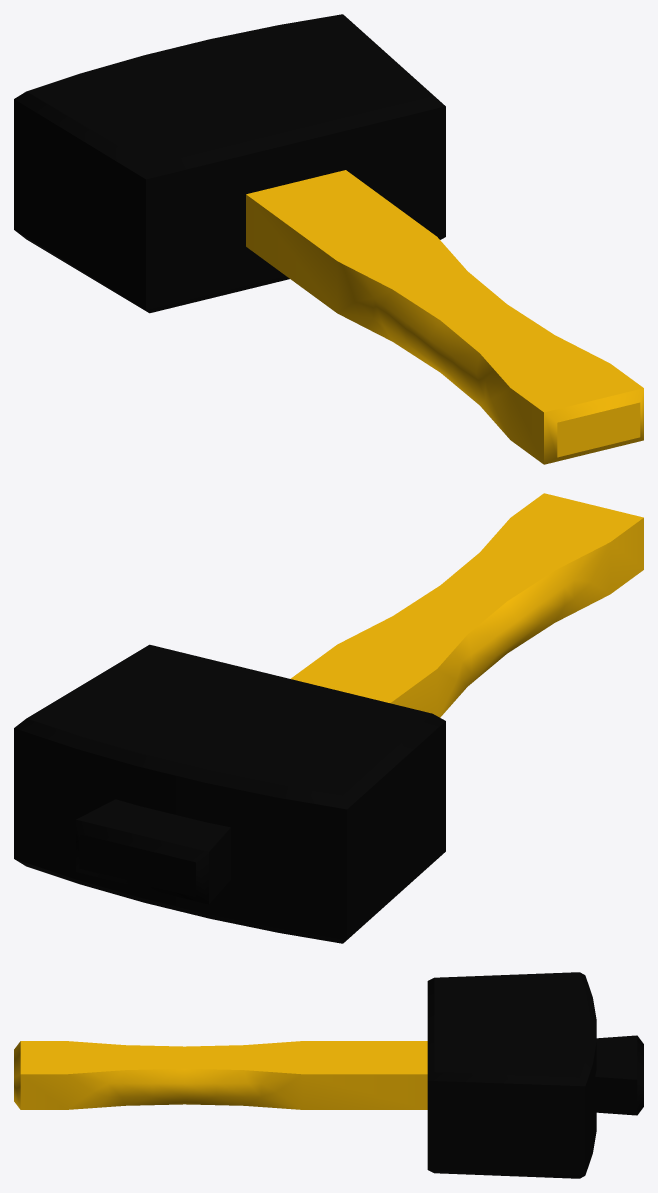
Rendered from mallet_02_origin_gt_1.dae.
3 renders of one model, top to bottom at view 1: azimuth 30°, elevation 25°; view 2: azimuth 150°, elevation 25°; view 3: azimuth 270°, elevation 25°, orthographic. The views are drawn at different scales.
Visible parts, largest first — view 1: Head, Handle; view 2: Head, Handle, Component_3; view 3: Head, Handle, Component_3.
Part boxes in pixels (x1,y1,x2,y2): Head: (14, 14, 445, 313); Handle: (246, 170, 643, 464); Head: (14, 644, 445, 943); Handle: (290, 493, 643, 717); Component_3: (76, 799, 230, 904); Head: (427, 972, 596, 1178); Handle: (14, 1041, 427, 1109); Component_3: (595, 1035, 643, 1115).
Size of the model in its own units: 5 by 11.99 by 2.13.
